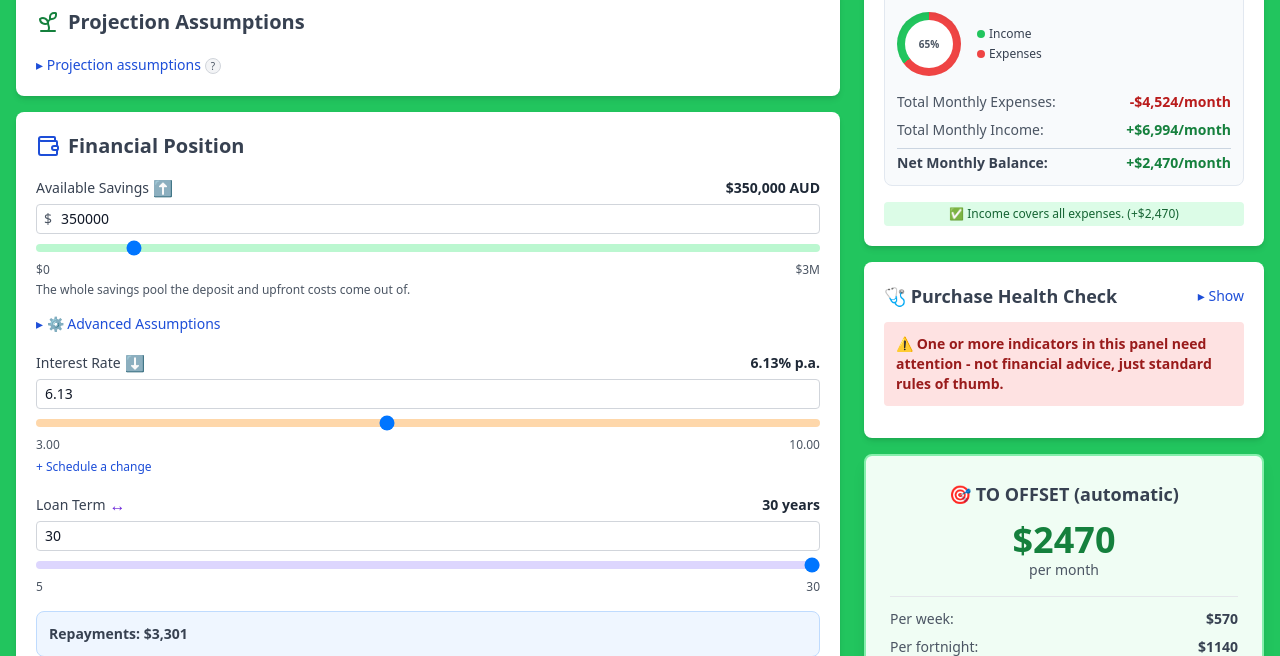
Test: Housing Cost Ratio on before-tax income (TODO-151) › the Stabilized reading uses the same before-tax convention › moves the Stabilized figure with the tax rate, exactly as Day-1 moves
The image size is (1280, 656).
(page scrolled)
Click the button "▸ Show": [1221, 296] box x1=1198 y1=286 x2=1244 y2=306
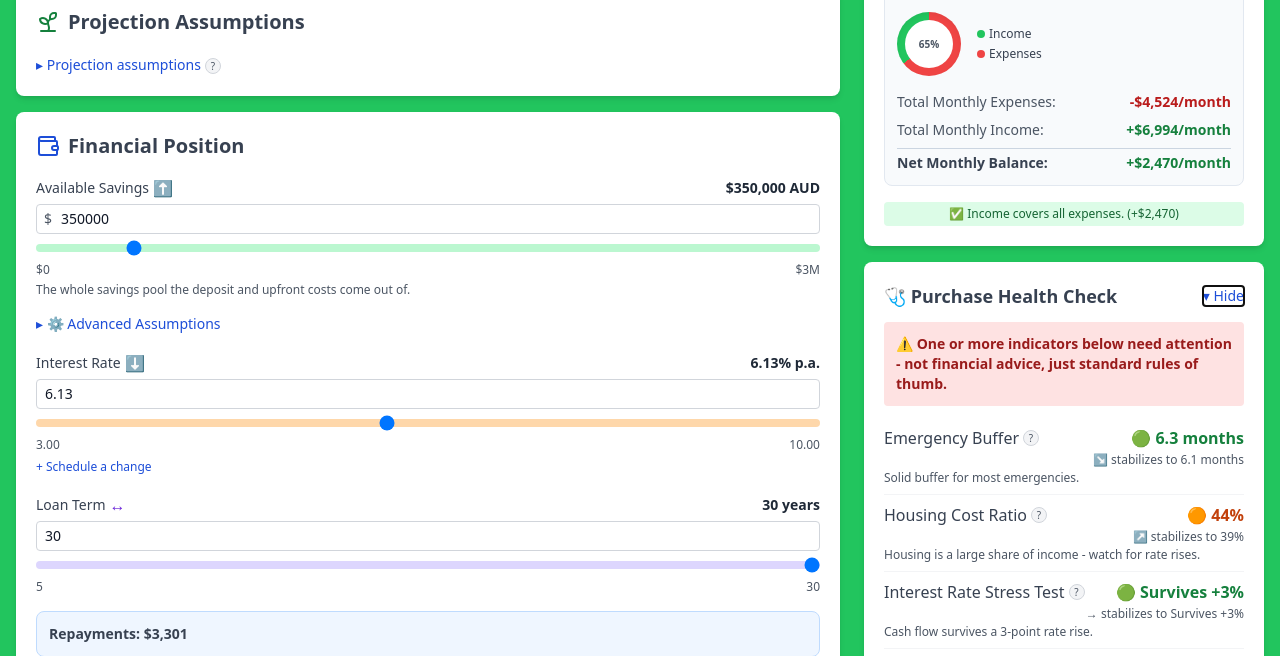
Click the button "▸ Projection assumptions": [118, 65] box x1=36 y1=55 x2=201 y2=75
(page scrolled)
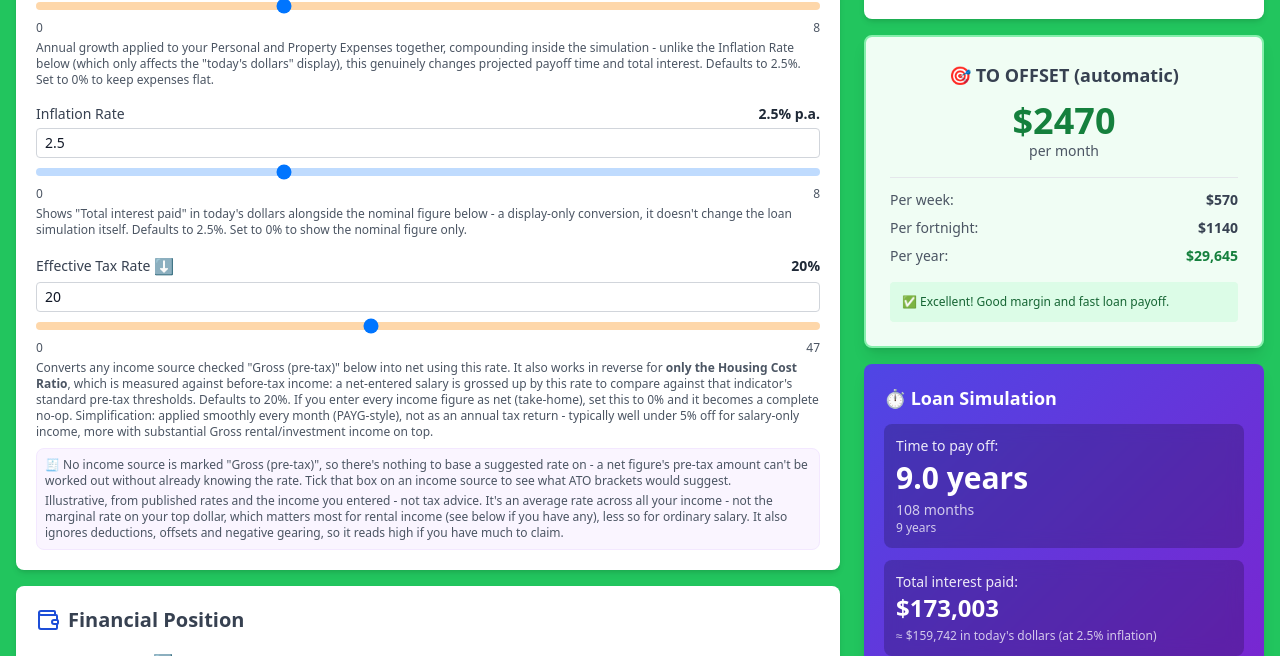
Replace the text in the number field labelled "Effective Tax Rate" with "0": [428, 297] box x1=36 y1=282 x2=820 y2=312
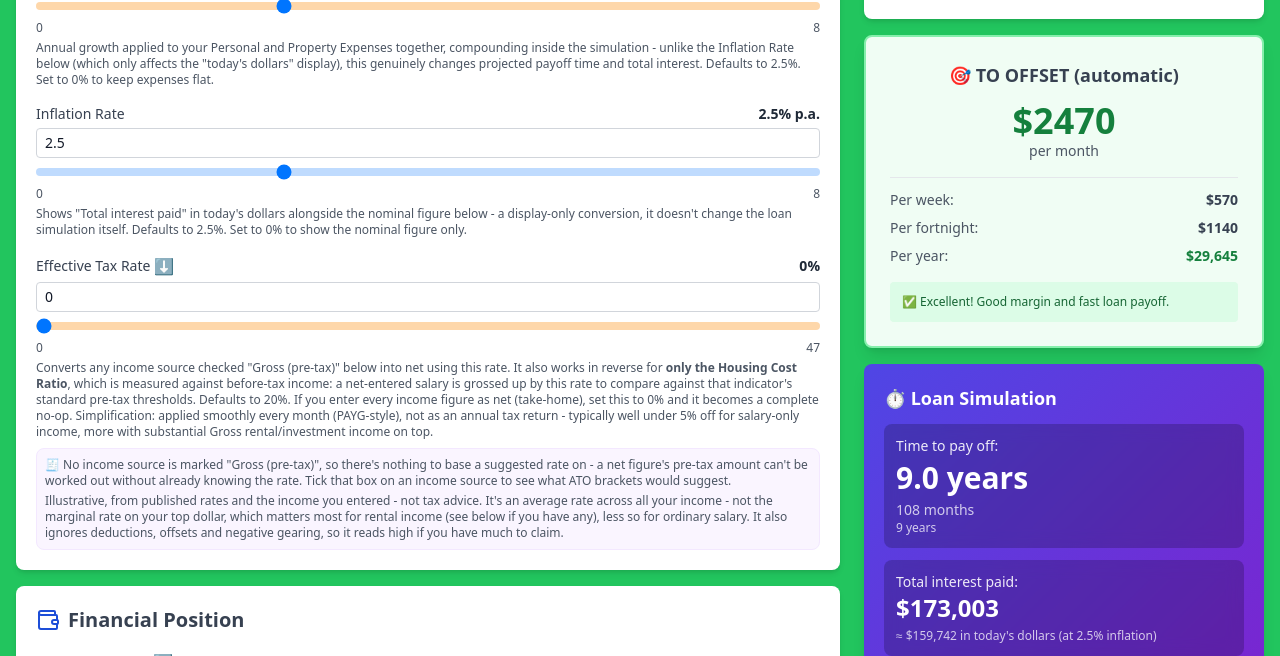
Leave the number field labelled "Effective Tax Rate", box x1=36 y1=282 x2=820 y2=312
(page scrolled)
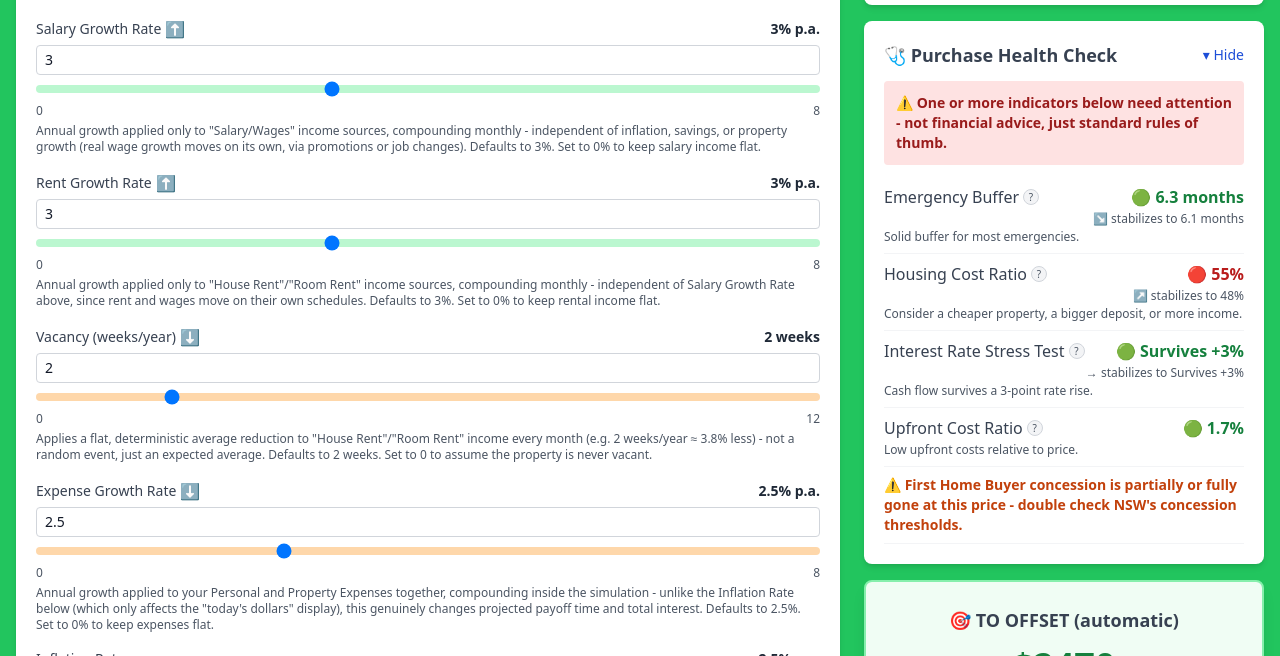
Now the text "↗ stabilizes to 48%" is shown, box x1=1133 y1=287 x2=1244 y2=304
